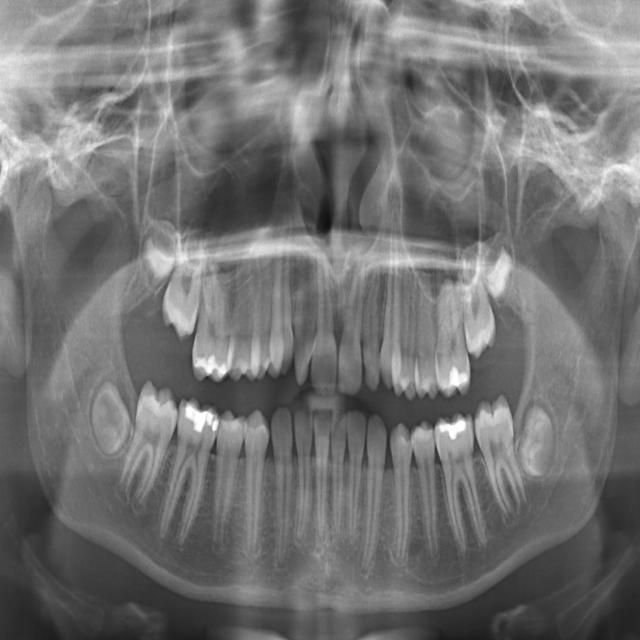AmalgamRestoration: (186, 398, 218, 434), (438, 415, 468, 447)
CompositeResinRestoration: (196, 348, 228, 379), (448, 362, 471, 393)
